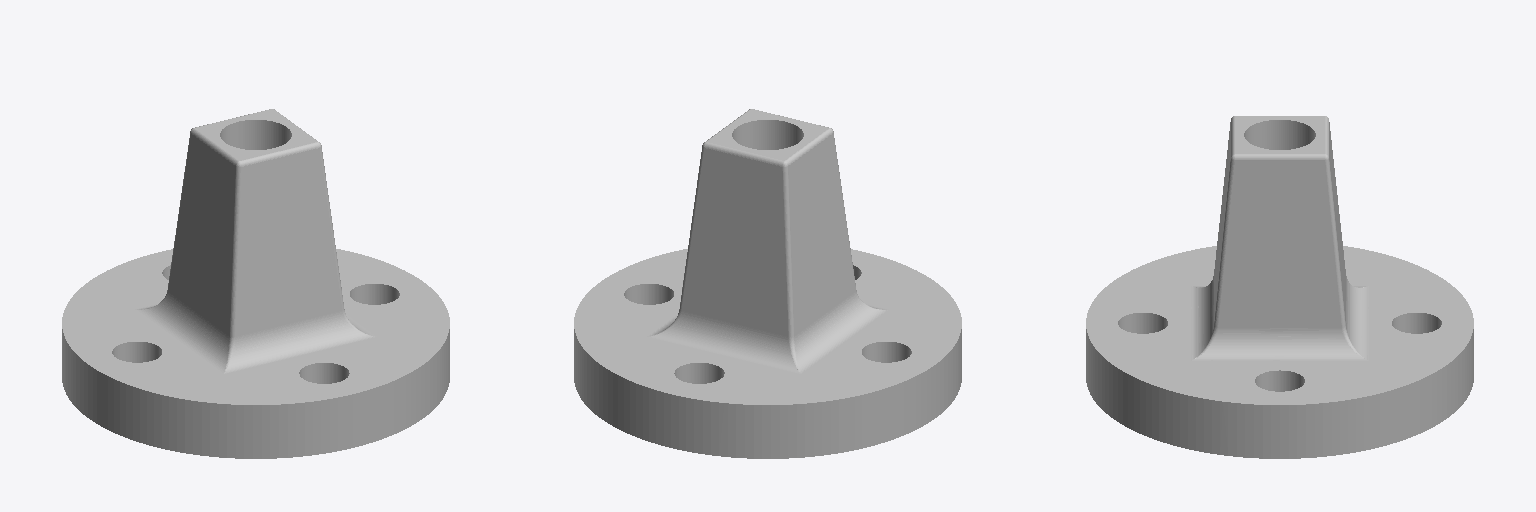
Rendered from Prints_motor_link.obj.
3 views of the same model, side by side, from view 1: azimuth 30°, elevation 25°; view 2: azimuth 150°, elevation 25°; view 3: azimuth 270°, elevation 25° (orthographic).
Parts seen in each view (by area): view 1: motor_link; view 2: motor_link; view 3: motor_link.
Part boxes in pixels (x1,y1,x2,y2): motor_link: (62, 109, 449, 458); motor_link: (574, 109, 961, 458); motor_link: (1086, 116, 1473, 458).
Size of the model in its own units: 0.017 by 0.0117 by 0.017.